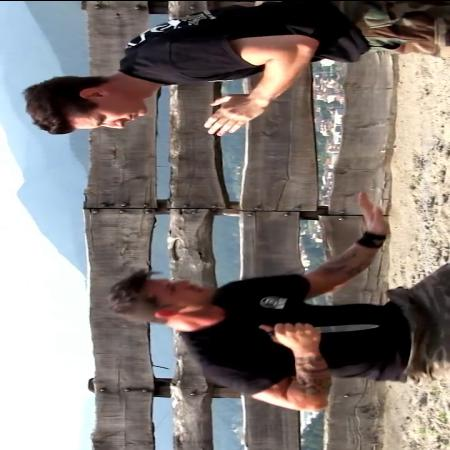long weapon: (256, 318, 384, 340)
